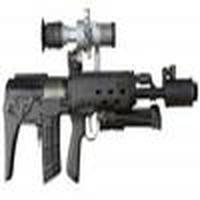gun: (2, 17, 200, 181)
